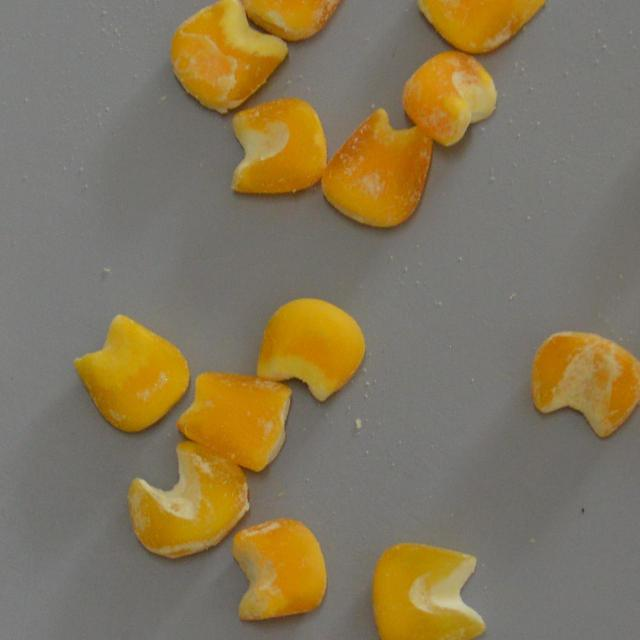no_canjicado: (254, 296, 366, 402)
pelicula: (123, 439, 248, 558), (320, 106, 432, 229), (73, 312, 187, 432), (170, 0, 286, 112), (176, 362, 290, 472), (530, 331, 640, 438), (368, 541, 486, 640), (230, 514, 327, 622), (400, 50, 498, 148), (229, 98, 326, 194), (418, 0, 546, 52), (241, 0, 365, 40)
